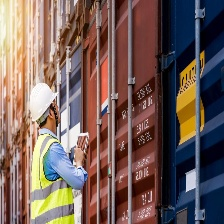helmet: (26, 82, 62, 123)
person: (27, 82, 86, 224)
vest: (30, 131, 77, 221)
